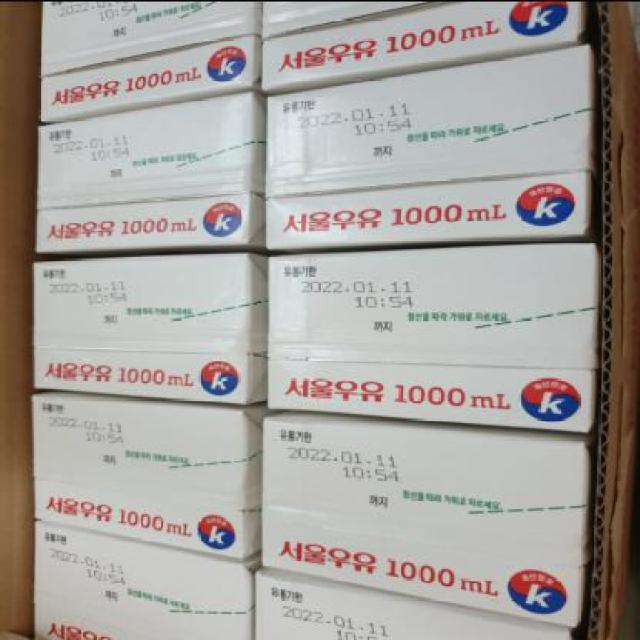tetra: (254, 402, 604, 638), (230, 234, 638, 432), (239, 63, 639, 245), (0, 91, 266, 255), (1, 387, 250, 558), (0, 243, 265, 402)
